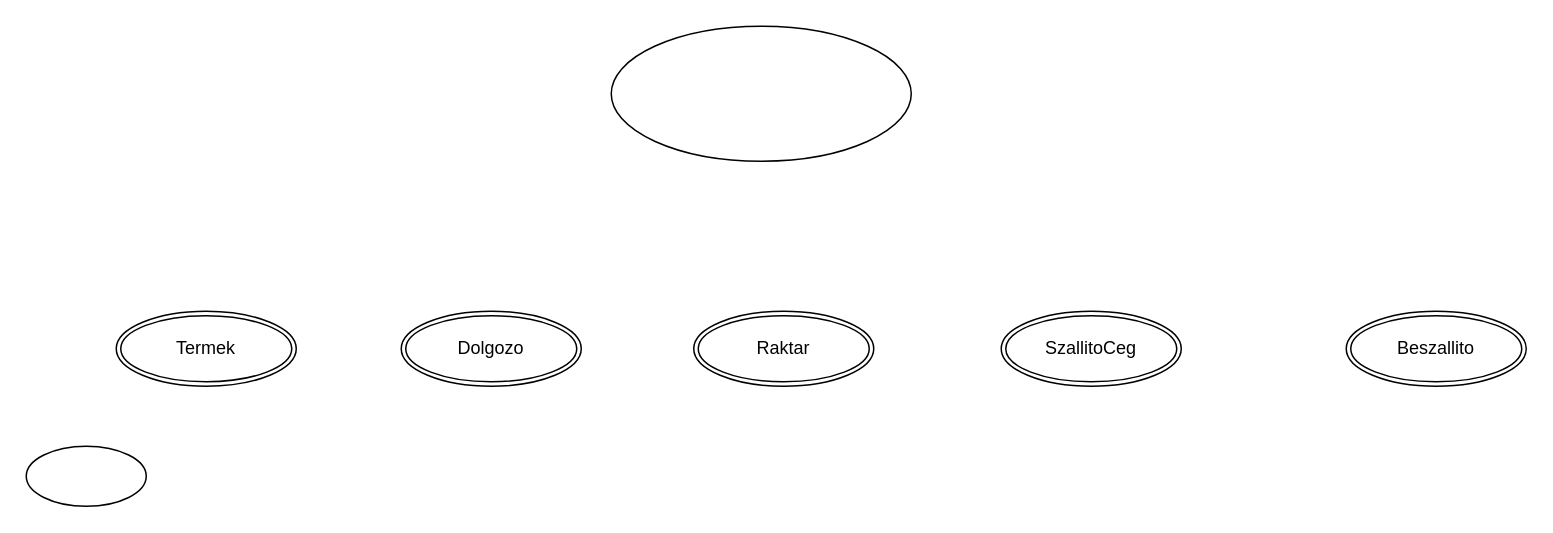
This 1553x533 diagram has some shape labels left out. Here are the shapes that lost their labels. From the top down, the box of each, then its label:
(610, 25, 911, 161): PHRO7R_RaktarkezeloRendszer
(25, 445, 146, 506): Attribute
